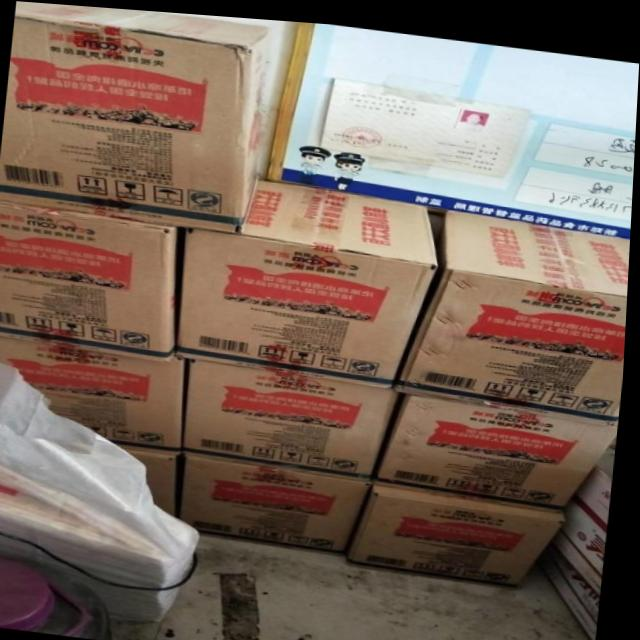box: (0, 1, 268, 233), (181, 175, 445, 383), (400, 202, 632, 417), (376, 386, 620, 505), (0, 202, 180, 358), (188, 356, 398, 476), (349, 478, 574, 581), (0, 334, 190, 450), (181, 451, 372, 548), (557, 440, 620, 587), (542, 537, 606, 634), (114, 440, 187, 513)
